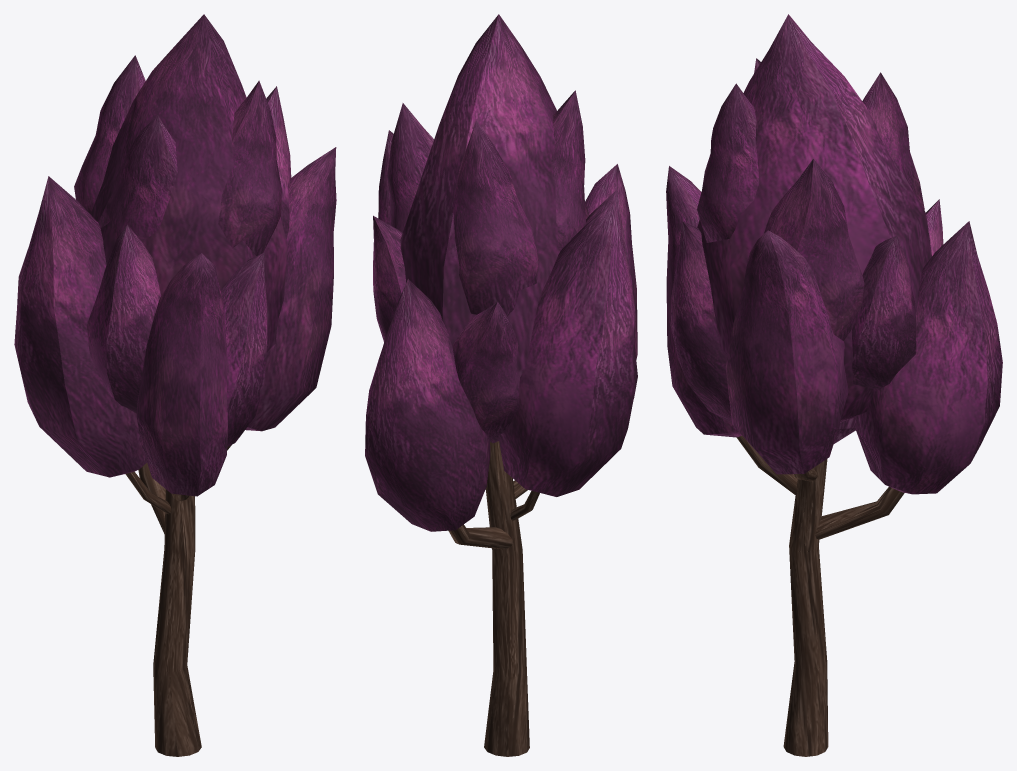
The model's file is gather-tree.glb.
3 views of the same model, side by side, from view 1: azimuth 30°, elevation 25°; view 2: azimuth 150°, elevation 25°; view 3: azimuth 270°, elevation 25° (orthographic). The views are drawn at different scales.
Parts seen in each view (by area): view 1: Tree04; view 2: Tree04; view 3: Tree04.
Part boxes in pixels (left/top/right/bottom): Tree04: left=14, top=14, right=336, bottom=756; Tree04: left=365, top=14, right=637, bottom=756; Tree04: left=666, top=14, right=1002, bottom=756.
Size of the model in its own units: 3.84 by 9.5 by 3.91.
2 materials, 2 textured.
